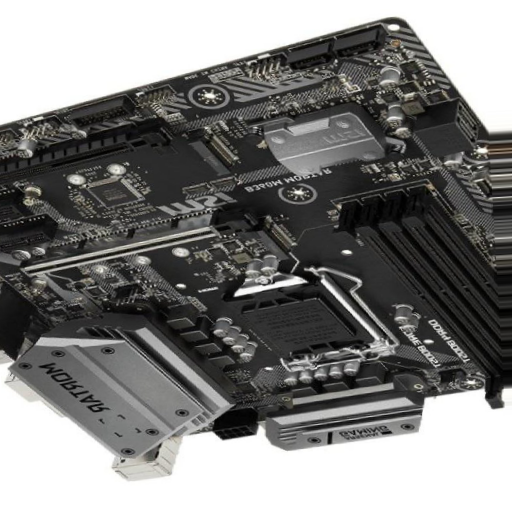CPU: (225, 271, 393, 368)
GPU: (19, 209, 262, 279), (1, 120, 175, 185)
MOTHERBOARD: (3, 17, 491, 444)
RAM: (340, 190, 502, 415)
SSD: (245, 219, 297, 258)
